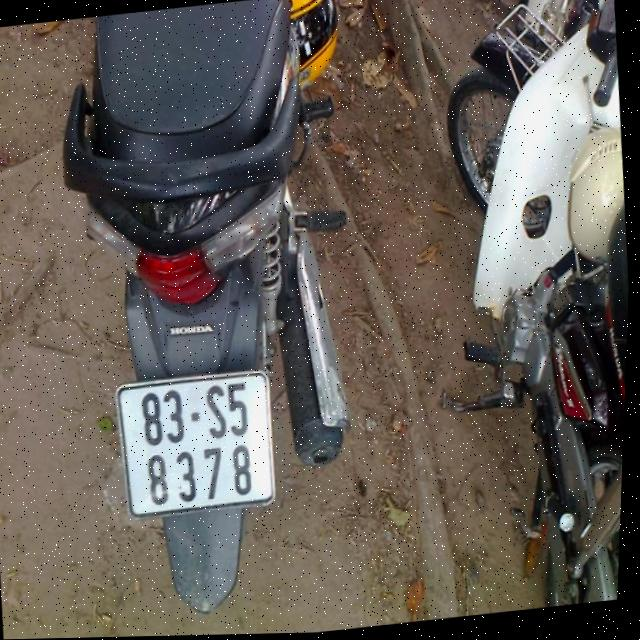motorcycle: (20, 0, 392, 638), (410, 0, 640, 616)
plate: (108, 360, 289, 524)
